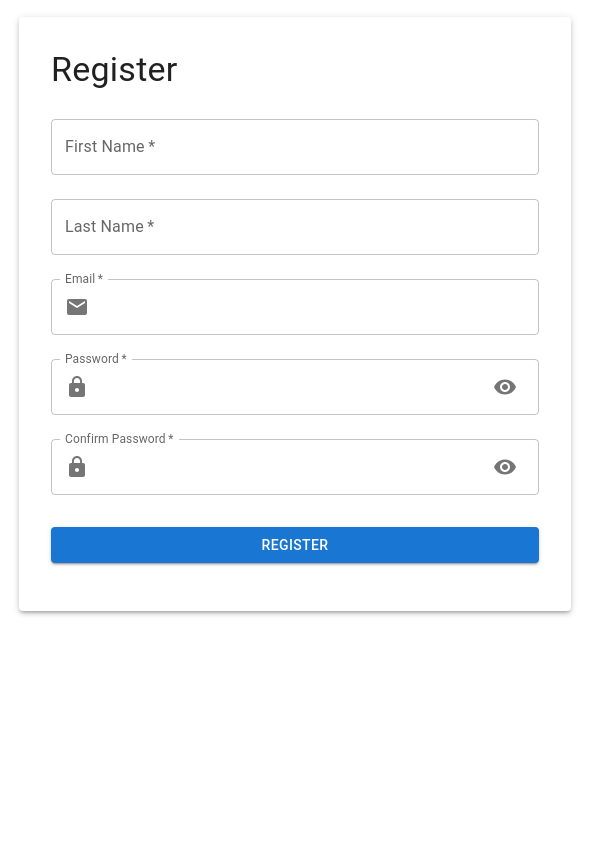
Scenario: Register Page › handles registration failure with friendly message (400)
Note: Fill form with valid data
Type "John" into the field with id "firstName" at (295, 147), box [51, 119, 539, 175]
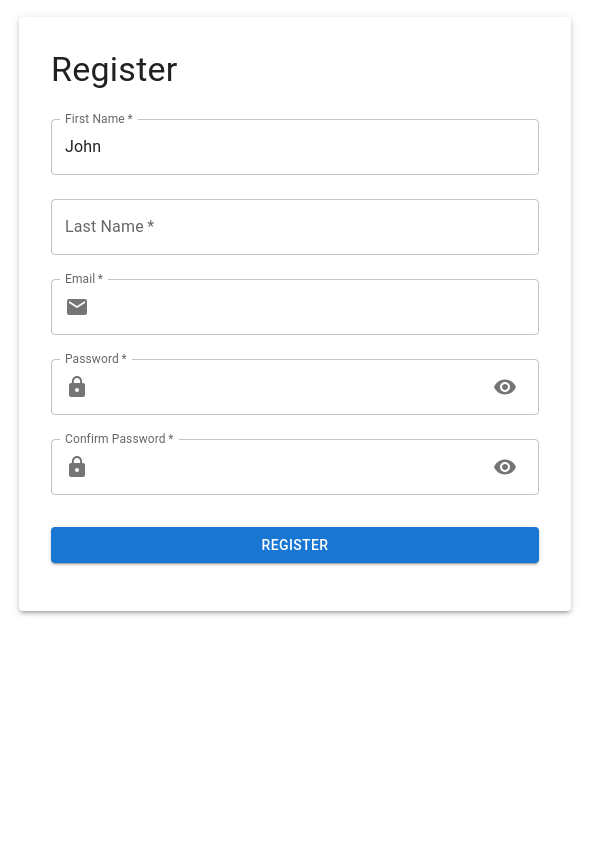
Type "Doe" into the field with id "lastName" at (295, 227), box [51, 199, 539, 255]
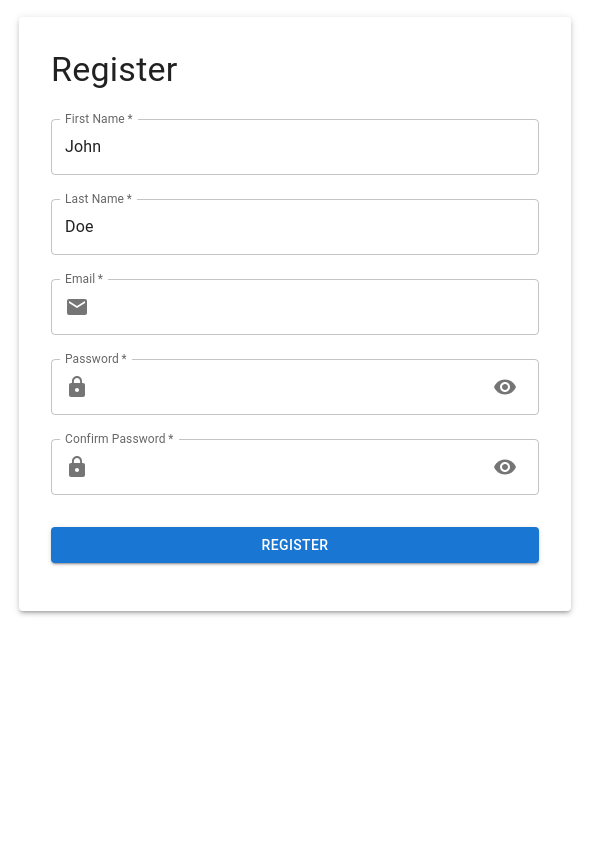
Type "john@example.com" into the field with id "email" at (318, 307), box [97, 279, 539, 335]
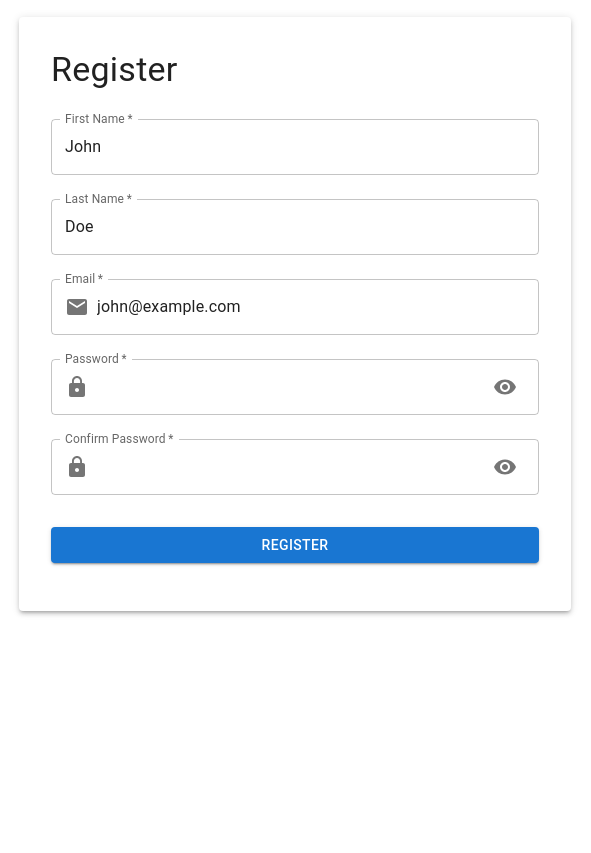
Type "Test123@" into the password field labelled "Password *" at (287, 387), box [97, 359, 477, 415]
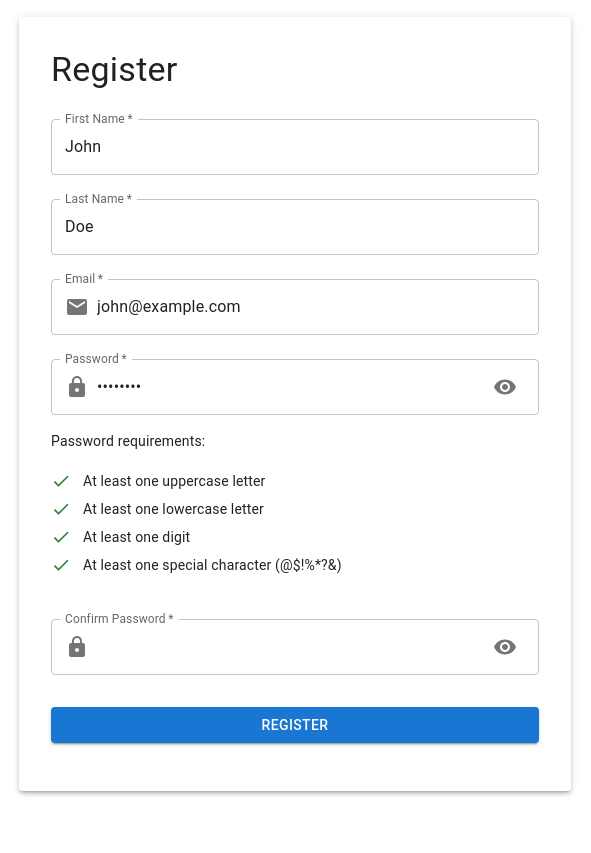
Type "Test123@" into the password field with id "confirmPassword" at (287, 647), box [97, 619, 477, 675]
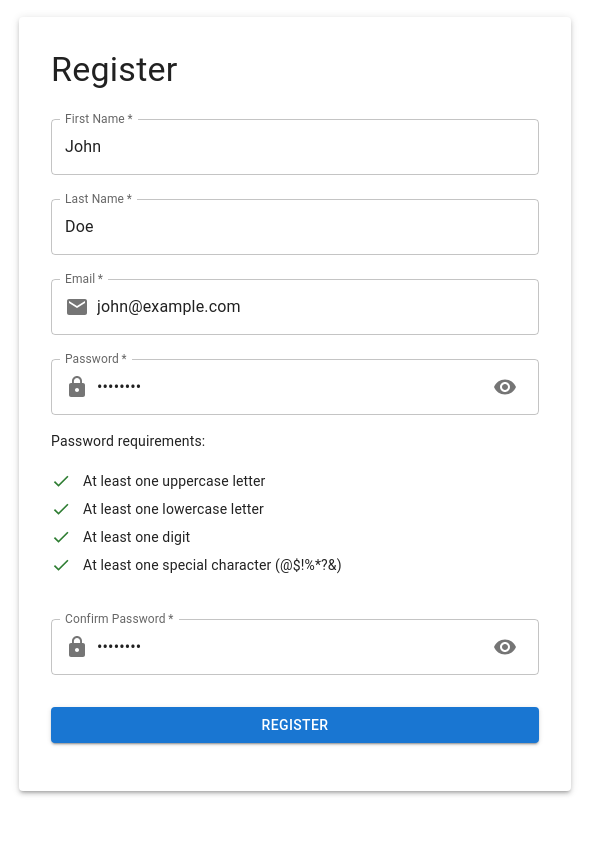
Click the button "Register" at (295, 725), box [51, 707, 539, 744]
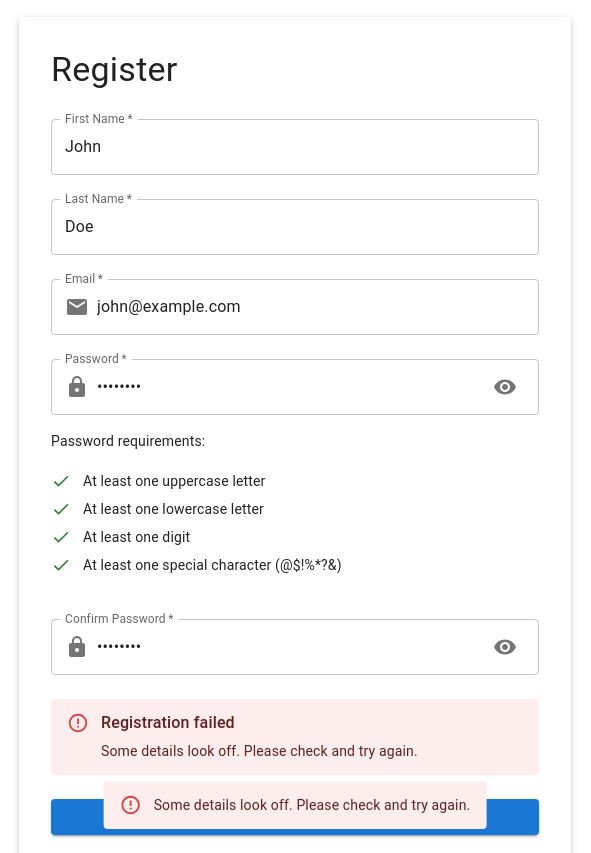
Check: the text "Some details look off. Please check and try again." is shown, box [101, 742, 418, 758]
